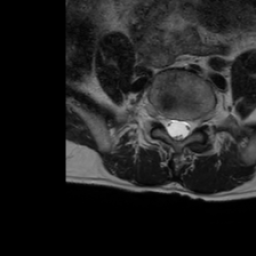CCS_normal: (174, 108, 183, 146)
LFS_normal: (192, 107, 201, 137)
LLS_normal: (183, 111, 192, 140)
RFS_normal: (157, 103, 165, 131)
RLS_normal: (165, 111, 174, 140)
